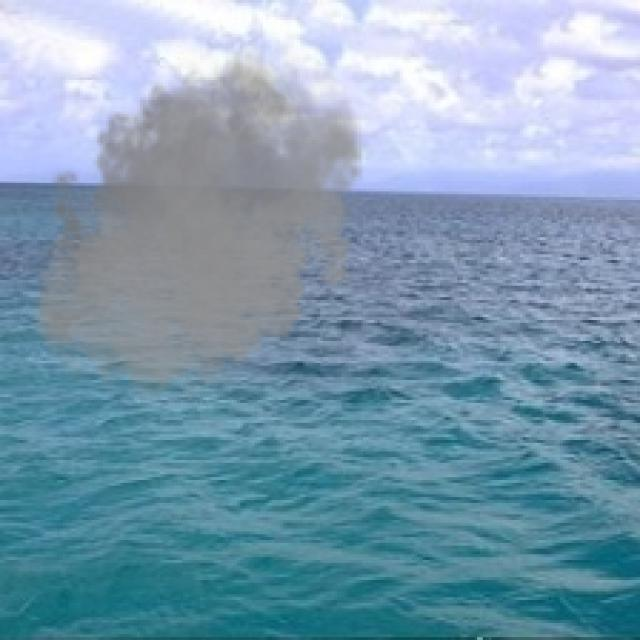smoke: (29, 34, 374, 409)
